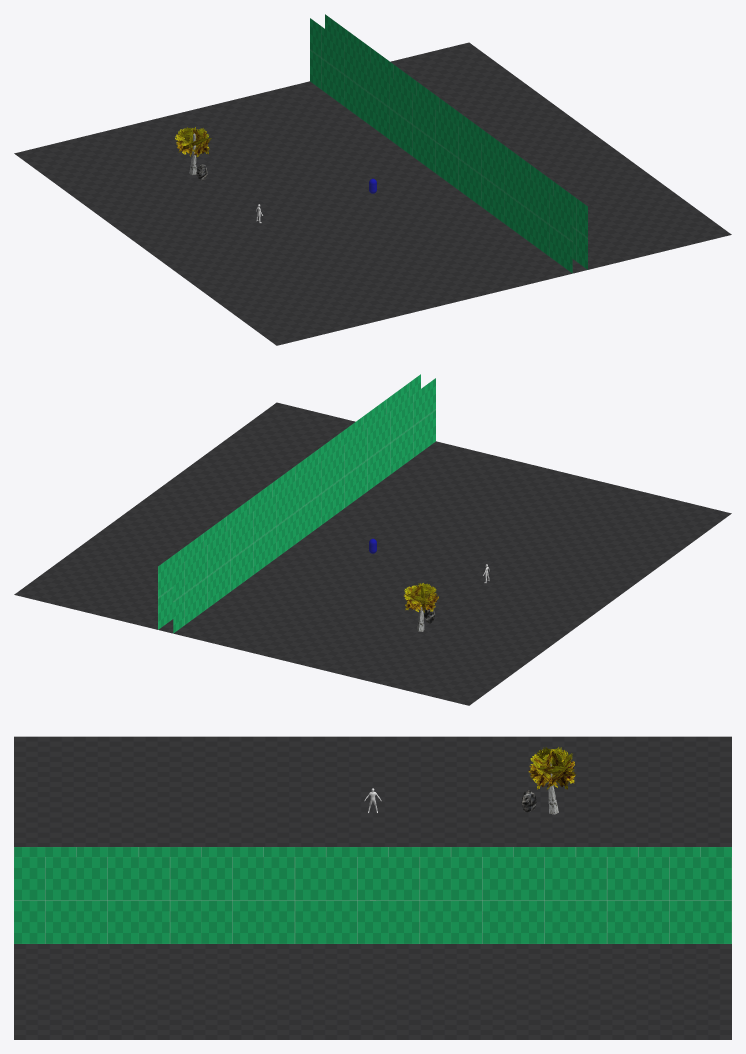
File: TST_MAP1.glb
3 views of the same model, one above another, from view 1: azimuth 30°, elevation 25°; view 2: azimuth 150°, elevation 25°; view 3: azimuth 270°, elevation 25° (orthographic). The views are drawn at different scales.
Parts seen in each view (by area): view 1: Floor, Beeg Wall, Birch Tree; view 2: Floor, Beeg Wall, Birch Tree; view 3: Floor, Beeg Wall, Birch Tree.
Boxes of the visible parts, x1,y1,x2,y2 form: Floor: [14, 42, 731, 345]; Beeg Wall: [310, 14, 587, 273]; Birch Tree: [175, 127, 211, 175]; Floor: [14, 402, 731, 705]; Beeg Wall: [158, 374, 435, 633]; Birch Tree: [403, 583, 438, 631]; Floor: [14, 736, 731, 1039]; Beeg Wall: [14, 847, 731, 943]; Birch Tree: [528, 747, 576, 814].
Size of what is drawn, in the model's own units: 60 by 8.2 by 60.
Materials: 7 (5 with a texture image).
